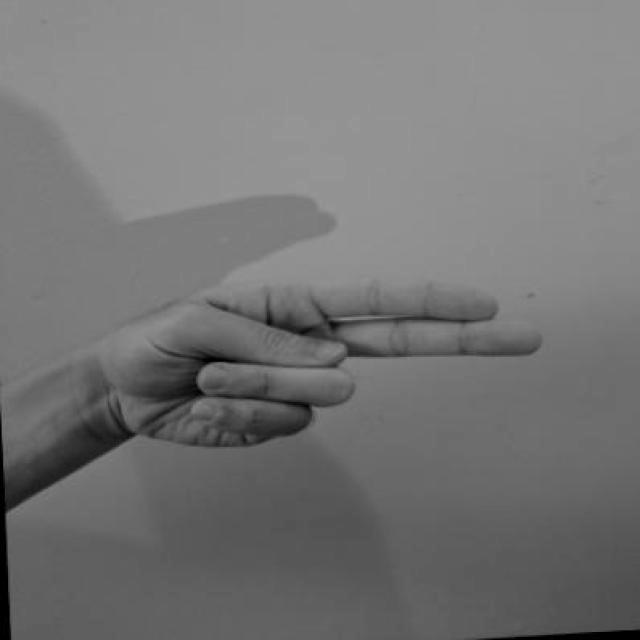H: (112, 249, 557, 465)
